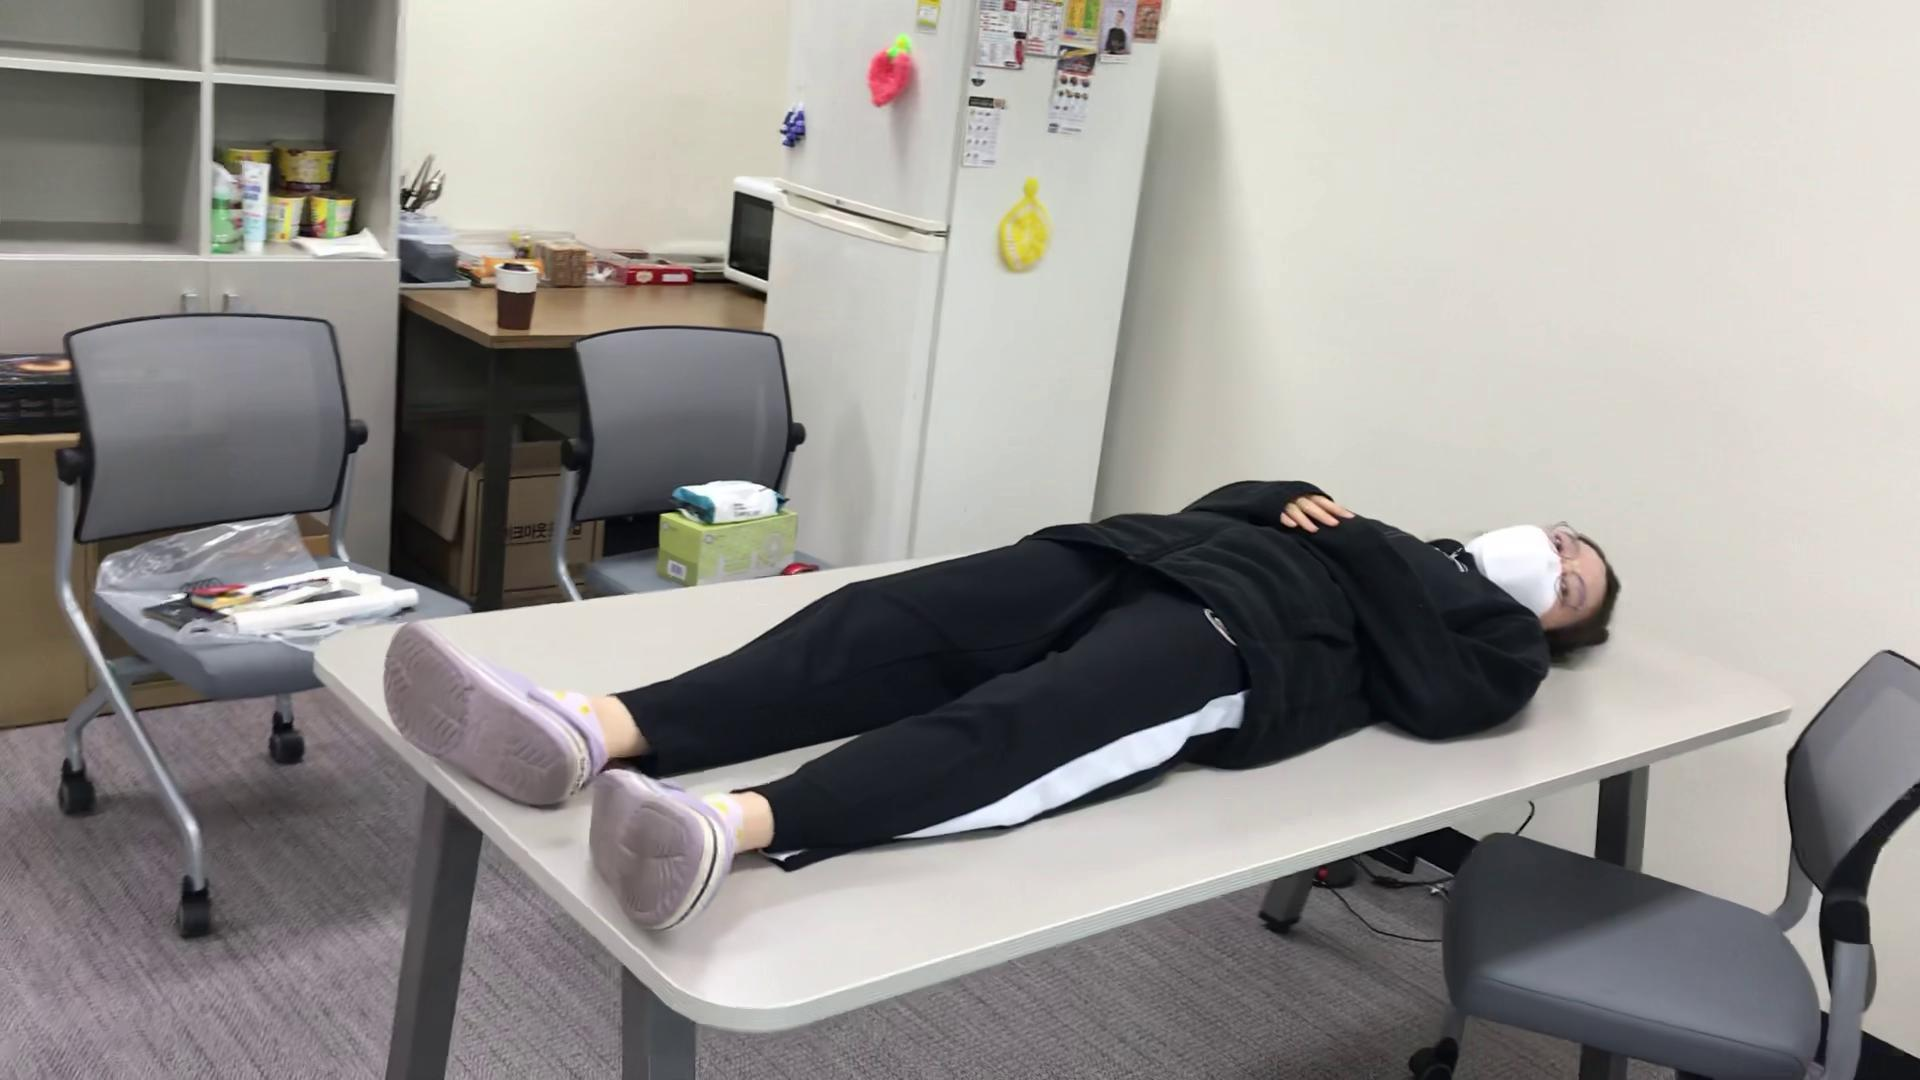sleep: (371, 454, 1619, 928)
